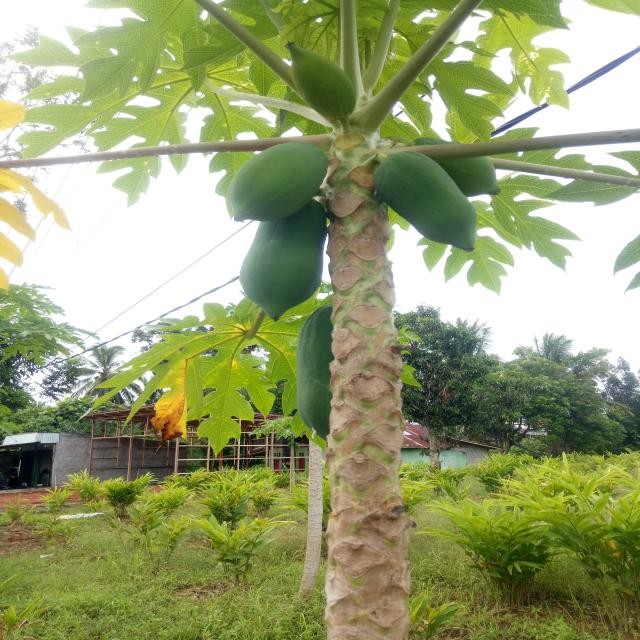Pepaya unrippen: (376, 150, 482, 254), (240, 222, 326, 321), (227, 143, 325, 225), (290, 322, 345, 432)
